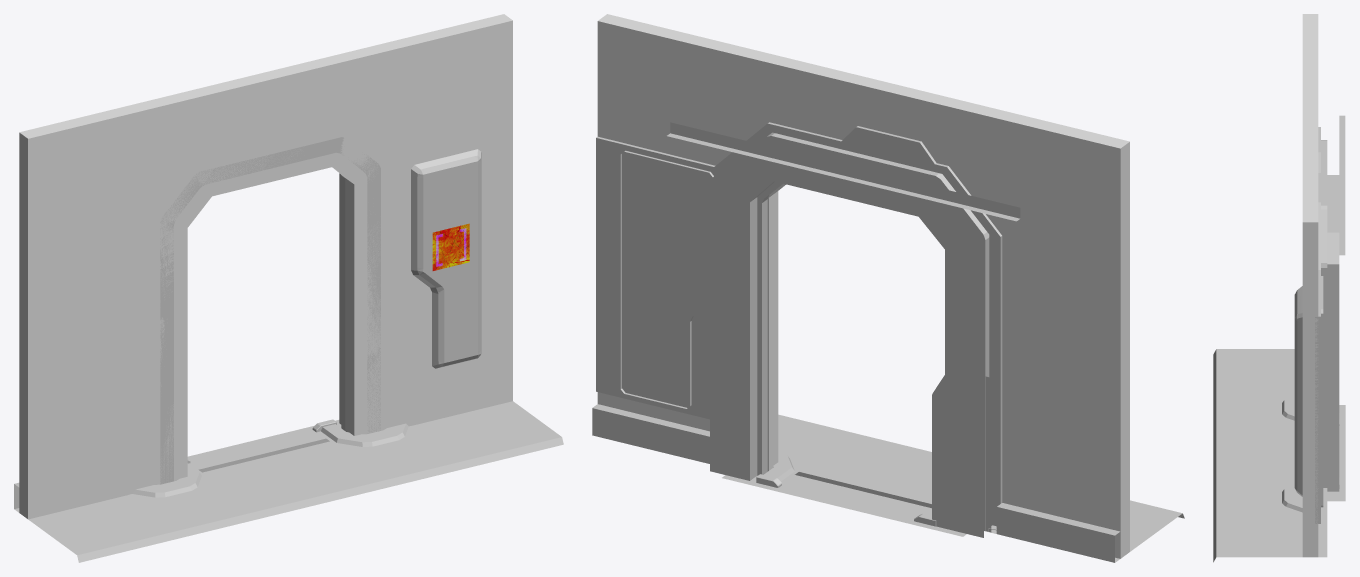
The model's file is wall_01_4x3_door.fbx.
3 renders of one model, left to right at view 1: azimuth 30°, elevation 25°; view 2: azimuth 150°, elevation 25°; view 3: azimuth 270°, elevation 25°, orthographic. The views are drawn at different scales.
Parts seen in each view (by area): view 1: Cube.135, Plane.144, Plane.137, Plane.142, Plane.143, Cube.126; view 2: Cube.135, Cube.126, Plane.141, Plane.144, Plane.137, Plane.142; view 3: Plane.144, Cube.135, Cube.126, Plane.137, Plane.142, Plane.141.
Part boxes in pixels (x1,y1,x2,y2): Cube.135: [19, 14, 512, 519]; Plane.144: [28, 401, 563, 562]; Plane.137: [14, 149, 481, 512]; Plane.142: [160, 137, 380, 484]; Plane.143: [432, 223, 469, 270]; Cube.126: [339, 173, 341, 424]; Cube.135: [597, 14, 1129, 558]; Cube.126: [667, 122, 1020, 537]; Plane.141: [596, 122, 1002, 530]; Plane.144: [722, 414, 1184, 551]; Plane.137: [592, 150, 1119, 562]; Plane.142: [723, 132, 989, 531]; Plane.144: [1213, 349, 1345, 562]; Cube.135: [1302, 14, 1318, 557]; Cube.126: [1327, 115, 1345, 491]; Plane.137: [1294, 276, 1327, 557]; Plane.142: [1321, 140, 1327, 487]; Plane.141: [1315, 127, 1320, 523].
Bounding box in the file's own units: 400 × 305 × 107.
